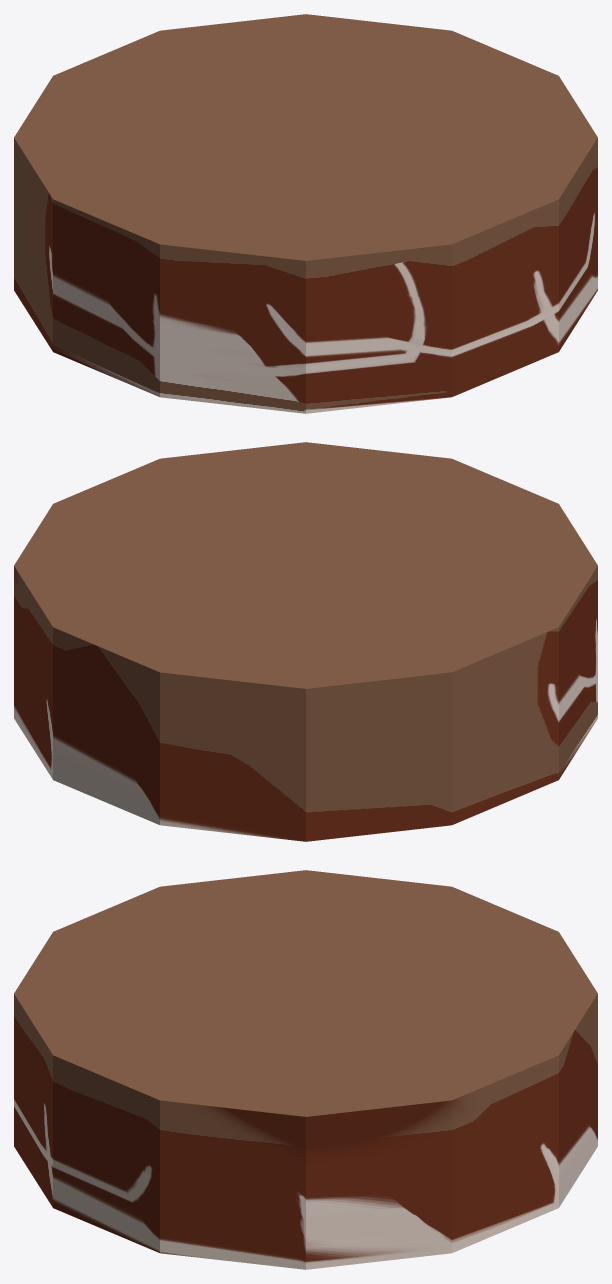
The model's file is bolacha.fbx.
3 views of the same model, one above another, from view 1: azimuth 30°, elevation 25°; view 2: azimuth 150°, elevation 25°; view 3: azimuth 270°, elevation 25° (orthographic).
Parts seen in each view (by area): view 1: Cylinder_012; view 2: Cylinder_012; view 3: Cylinder_012.
Part boxes in pixels (left/top/right/bottom): Cylinder_012: left=14, top=14, right=597, bottom=413; Cylinder_012: left=14, top=442, right=597, bottom=841; Cylinder_012: left=14, top=870, right=597, bottom=1269.
Bounding box in the file's own units: 1.68 × 0.4861 × 1.68.
